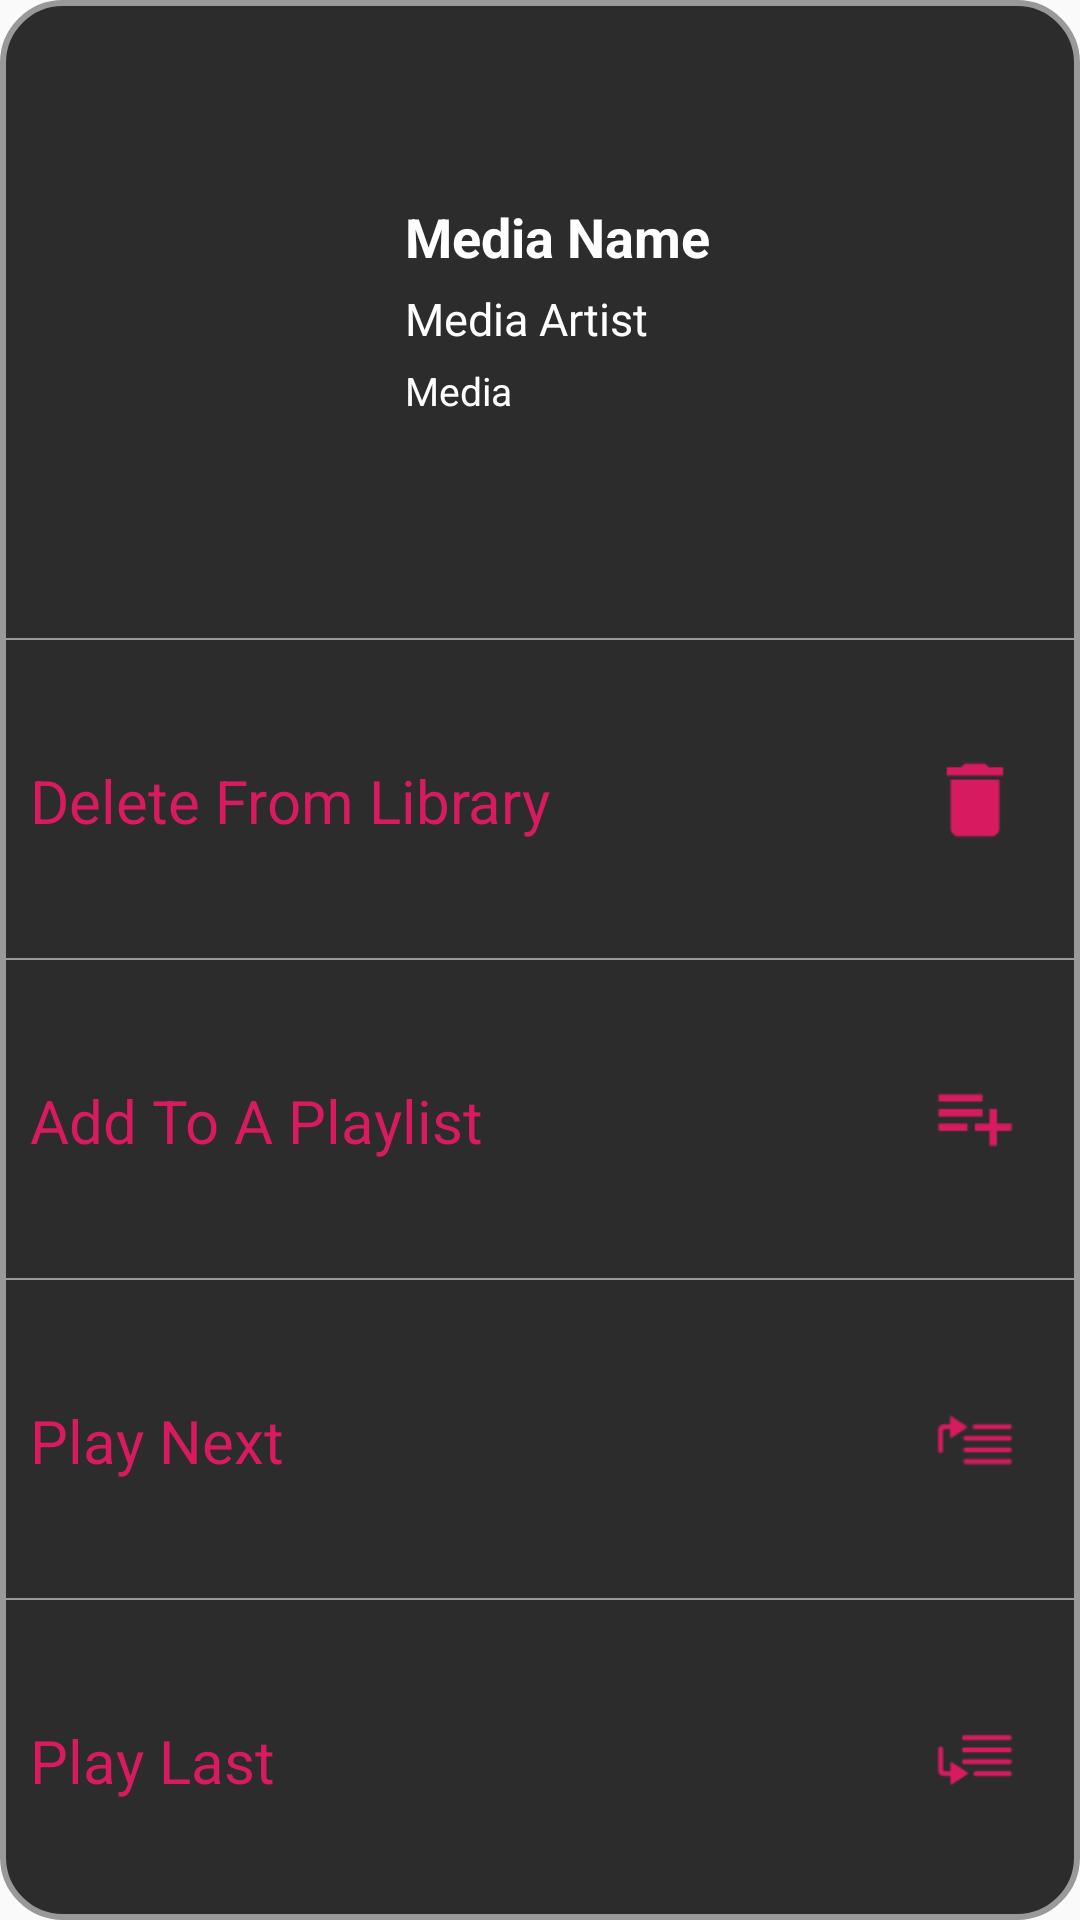

Icons on this 1080*1920 Android screen, each with its box as [x1,y1,x2,y2]:
delete: [946,763,1004,837]
play last: [937,1734,1013,1785]
play next: [937,1415,1013,1465]
playlist add: [937,1093,1013,1147]
